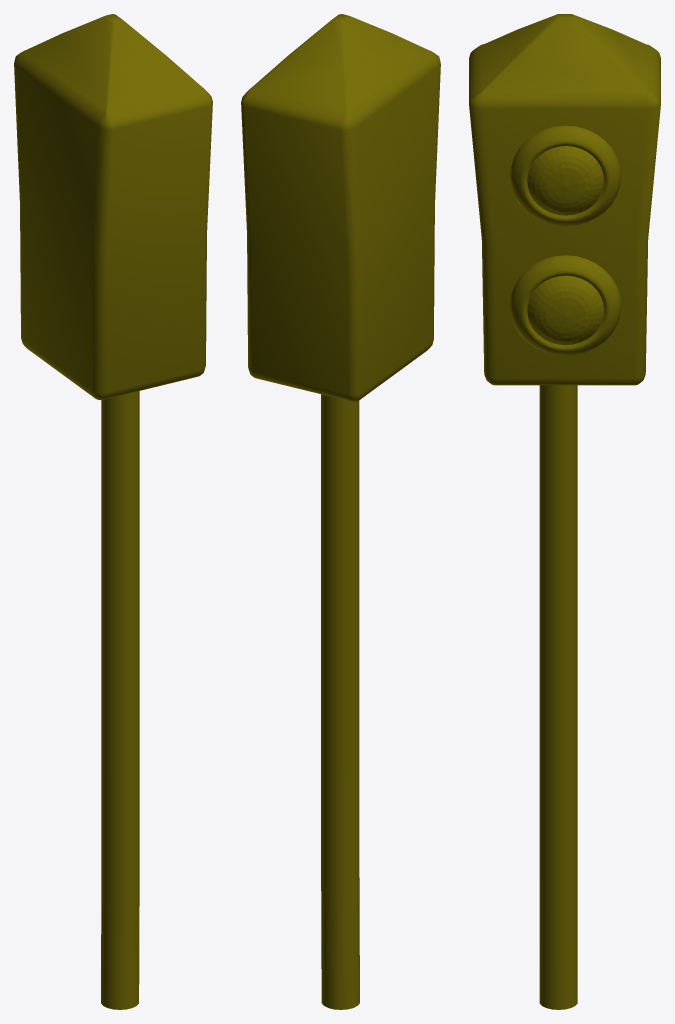
File: semaforochafa.obj
3 views of the same model, side by side, from view 1: azimuth 30°, elevation 25°; view 2: azimuth 150°, elevation 25°; view 3: azimuth 270°, elevation 25° (orthographic).
Visible parts, largest first — view 1: up001; view 2: up001; view 3: up001.
Boxes of the visible parts, x1,y1,x2,y2 form: up001: [14, 14, 212, 1009]; up001: [241, 14, 440, 1009]; up001: [469, 14, 660, 1009].
Size of the model in its own units: 95.52 by 664 by 117.
